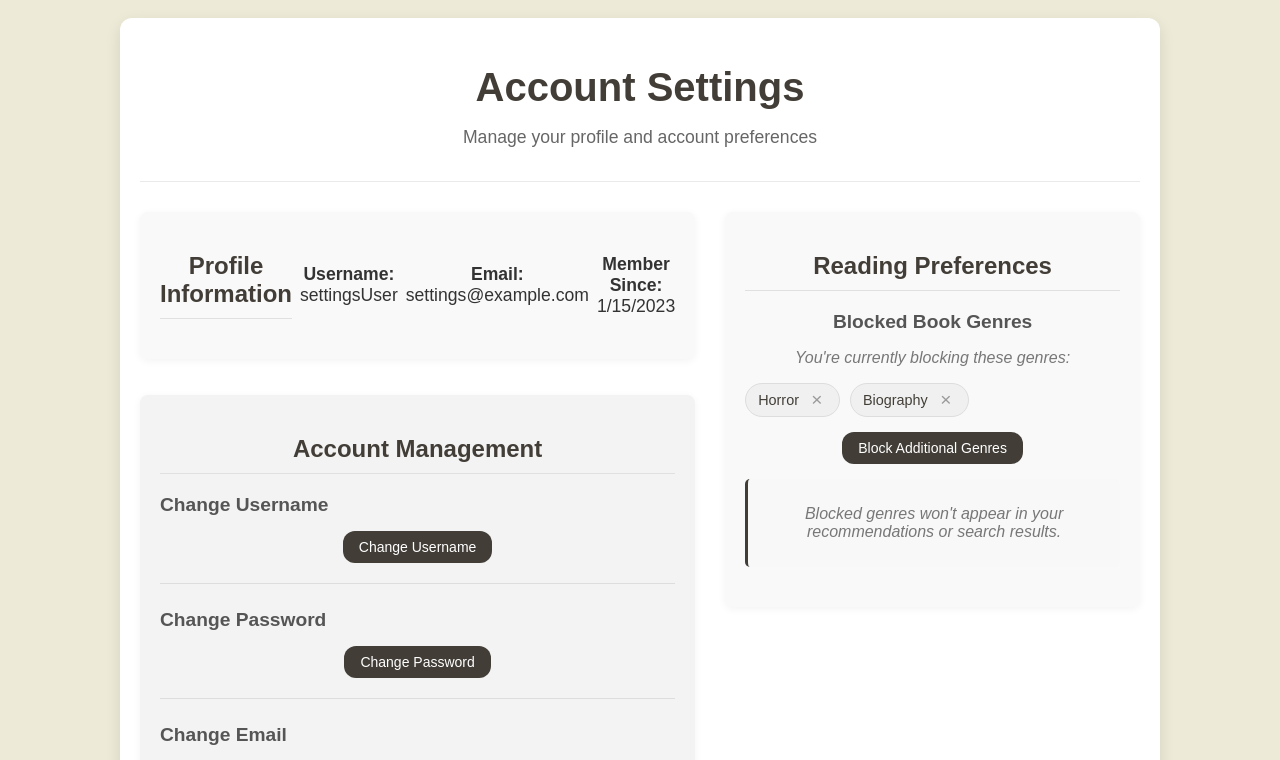
Settings Component › displays error if current password is missing when submitting password form
The image size is (1280, 760).
Click the button "Change Password" at (418,662), box [344,646,491,678]
(page scrolled)
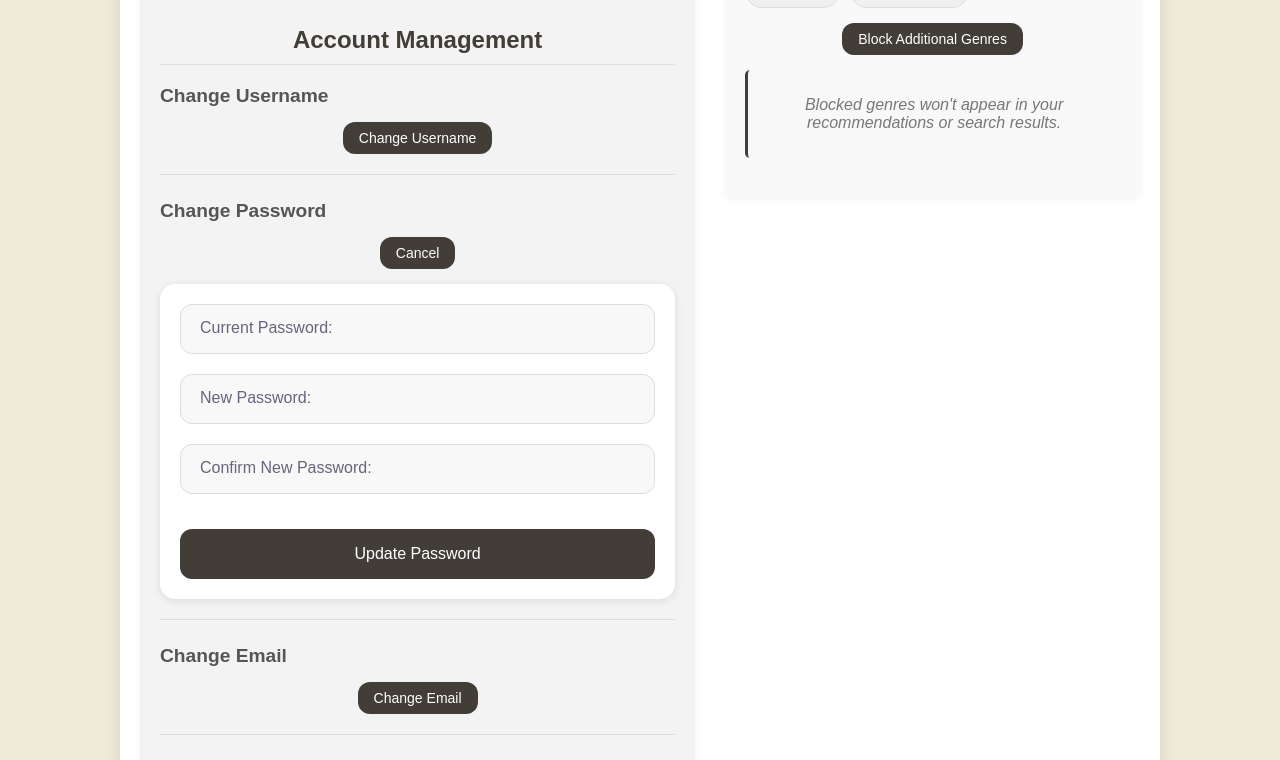
Type "newPass123!" into the password field labelled "New Password:" at (418,399), box [180,374,655,424]
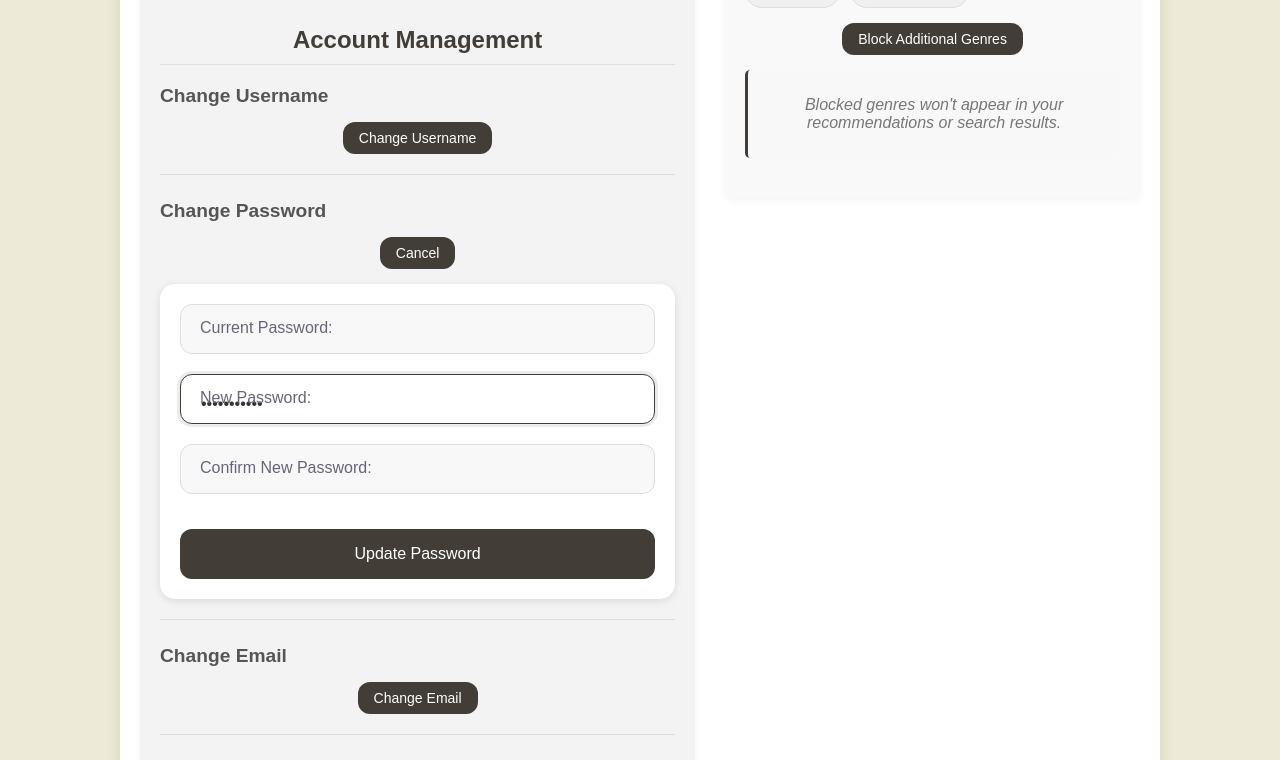
Type "newPass123!" into the password field labelled "Confirm New Password:" at (418,469), box [180,444,655,494]
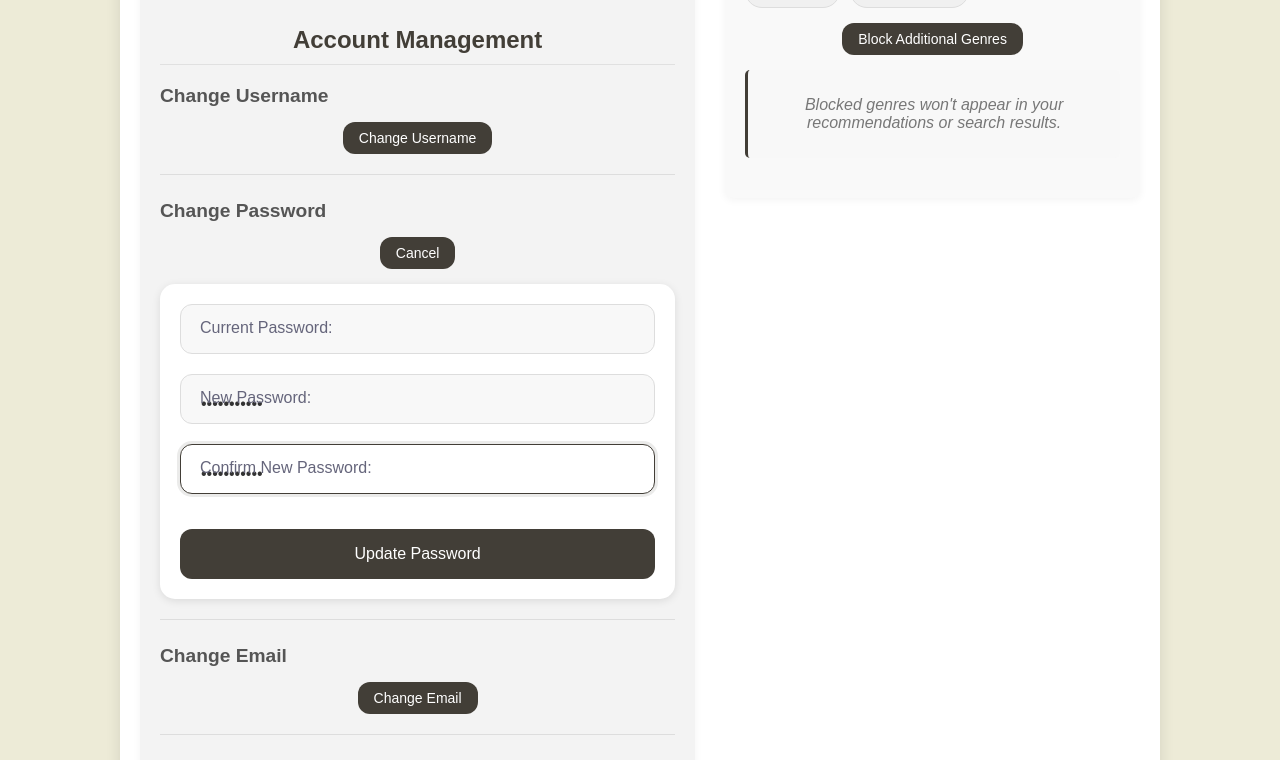
Submit the form, box [160,284,675,599]
(page scrolled)
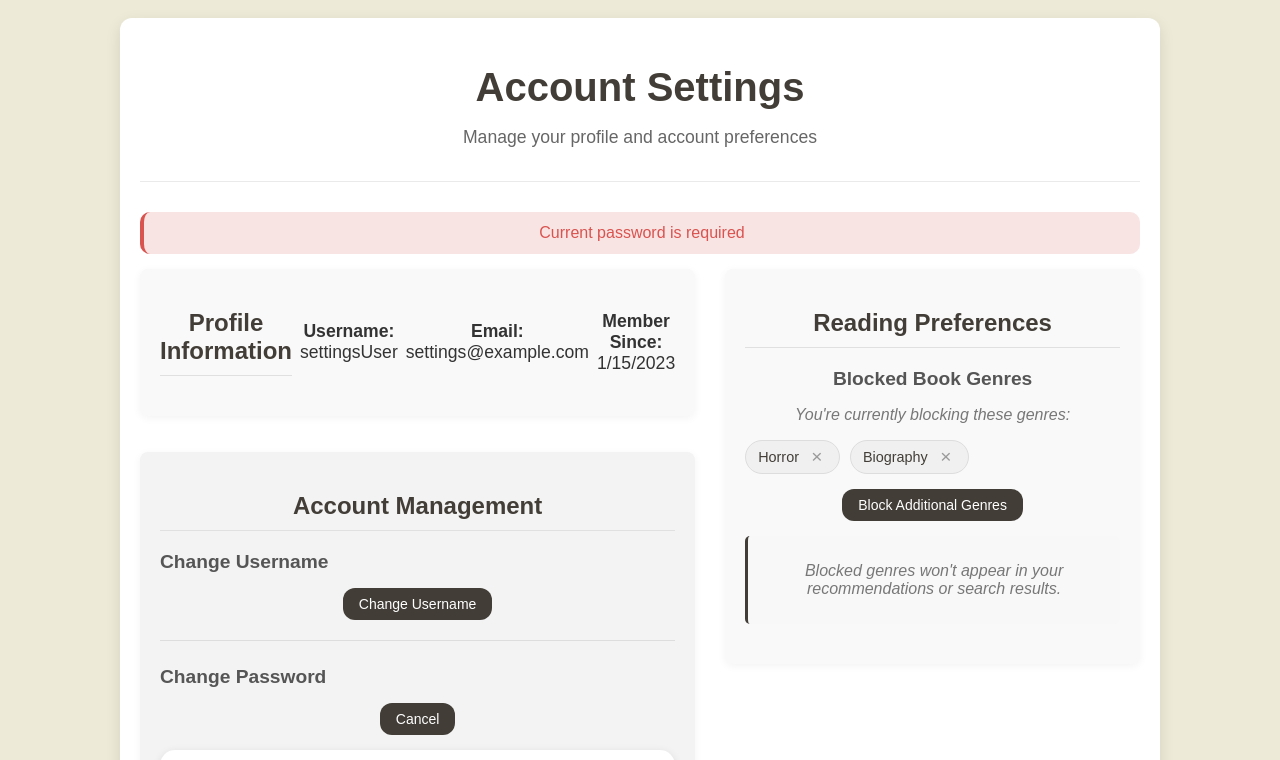
Check: the text "Current password is required" is shown, box [140,212,1140,254]
